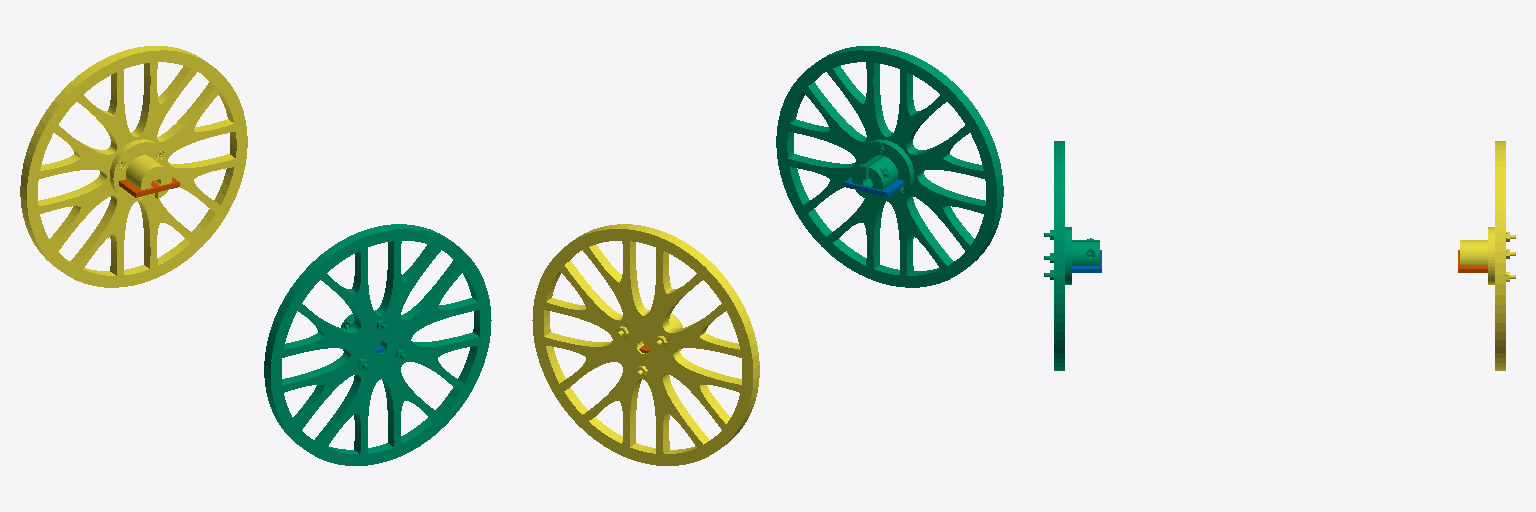
robot.urdf — Puzzlebot Jetson-Lidar Ed.:
<?xml version="1.0"?>
<robot name="Puzzlebot Jetson-Lidar Ed.">


<!-- Dummy link to fiz robot chassis -->
  <link name="base_link">
  </link>
  
    <joint name="chassis_joint" type="fixed">
        <parent link="base_link"/>
        <child link="chassis"/>
        <origin xyz="0.0 0.0 0.05"/>
    </joint>

    <link name="chassis">
        <inertial>
            <origin xyz="0 0 0" rpy="0 0 0"/>
            <mass value="0.01" />
            <inertia ixx="7.58333333333e-06" ixy="0.0" ixz="0.0" iyy="7.58333333333e-06" iyz="0.0" izz="1.25e-05"/>
        </inertial>
        <collision>
            <origin rpy="0 0 0" xyz="0 0 0"/>
            <geometry>
                <mesh filename="package://Minichallenge4/models/MCR2_1000_13_Chassis.stl"/>
            </geometry>
        </collision>
        <visual>
            <origin rpy="1.57079632679 0 1.57079632679" xyz="0 0 0"/>
            <geometry>
                <mesh filename="package://Minichallenge4/models/MCR2_1000_13_Chassis.stl"/>
            </geometry>
        </visual>
    </link>

    <joint name="rw_joint" type="revolute">
        <parent link="chassis"/>
        <child link="rw"/>
        <origin xyz="0.05 -0.087 0.0046"/>
        <axis xyz="0 1 0"/>
        <limit lower="-3.1416" upper="3.1416" effort="100" velocity="3.14"/>
        <!-- Adjust the limit and velocity according to your requirements -->
    </joint>

    <link name="rw">
        <inertial>
            <origin xyz="0.0 0.0 0.0046" rpy="0 0 0"/>
            <mass value="0.01" />
            <inertia ixx="7.58333333333e-06" ixy="0.0" ixz="0.0" iyy="7.58333333333e-06" iyz="0.0" izz="1.25e-05"/>
        </inertial>
        <collision>
            <origin rpy="0 0 0" xyz="0 0 0"/>
            <geometry>
                <mesh filename="package://Minichallenge4//models/MCR2_1000_1_1_Wheel_Coupler_2.stl"/>
            </geometry>
        </collision>
        <visual>
            <origin rpy="-1.5708 0 0" xyz="0.0 -0.011 -0.002"/>
            <geometry>
                <mesh filename="package://Minichallenge4/models/MCR2_1000_1_1_Wheel_Coupler_2.stl"/>
            </geometry>
        </visual>
    </link>

    <joint name="lw_joint" type="revolute">
        <parent link="chassis"/>
        <child link="lw"/>
        <origin xyz="0.05 0.087 0.0046"/>
        <axis xyz="0 1 0"/>
        <limit lower="-3.1416" upper="3.1416" effort="100" velocity="3.14"/>
        <!-- Adjust the limit and velocity according to your requirements -->
    </joint>

    <link name="lw">
        <inertial>
            <origin xyz="0.0 0.0 0.0046" rpy="0 0 0"/>
            <mass value="0.01" />
            <inertia ixx="7.58333333333e-06" ixy="0.0" ixz="0.0" iyy="7.58333333333e-06" iyz="0.0" izz="1.25e-05"/>
        </inertial>
        <collision>
            <origin rpy="0 0 0" xyz="0 0 0"/>
            <geometry>
                <mesh filename="package://Minichallenge4/models/MCR2_1000_1_1_Wheel_Coupler_2.stl"/>
            </geometry>
        </collision>
        <visual>
            <origin rpy="1.5708 0 0" xyz="0.0 0.011 -0.002"/>
            <geometry>
                <mesh filename="package://Minichallenge4/models/MCR2_1000_1_1_Wheel_Coupler_2.stl"/>
            </geometry>
        </visual>
    </link>

    <!-- Supports for wheels -->
    <joint name="rw_support_joint" type="fixed">
        <parent link="rw"/>
        <child link="rw_support"/>
        <origin xyz="0.0 0.0 -0.0046"/>
    </joint>

    <link name="rw_support">
        <inertial>
        <origin xyz="0.0 0.0 0.0" rpy="0 0 0"/>
        <mass value="0.0" />
        <inertia ixx="0.0" ixy="0.0" ixz="0.0" iyy="0.0" iyz="0.0" izz="0.0"/>
        </inertial>
        <collision>
        <origin rpy="0 0 0" xyz="0 0 0"/>
        <geometry>
            <box size="0.02 0.02 0.002"/>
        </geometry>
        </collision>
        <visual>
        <origin rpy="0 0 0" xyz="0 0 0"/>
        <geometry>
            <box size="0.02 0.02 0.002"/>
        </geometry>
        </visual>
    </link>

    <joint name="lw_support_joint" type="fixed">
        <parent link="lw"/>
        <child link="lw_support"/>
        <origin xyz="0.0 0.0 -0.0046"/>
    </joint>

    <link name="lw_support">
        <inertial>
        <origin xyz="0.0 0.0 0.0" rpy="0 0 0"/>
        <mass value="0.0" />
        <inertia ixx="0.0" ixy="0.0" ixz="0.0" iyy="0.0" iyz="0.0" izz="0.0"/>
        </inertial>
        <collision>
        <origin rpy="0 0 0" xyz="0 0 0"/>
        <geometry>
            <box size="0.02 0.02 0.002"/>
        </geometry>
        </collision>
        <visual>
        <origin rpy="0 0 0" xyz="0 0 0"/>
        <geometry>
            <box size="0.02 0.02 0.002"/>
        </geometry>
        </visual>
    </link>



<!-- FINISH THE URDF-->


</robot>

--- What the picture shows (computed from the rendered views, not written in the file) ---
The picture shows the robot from 3 angles, left to right: view 1: azimuth 30°, elevation 25°; view 2: azimuth 150°, elevation 25°; view 3: azimuth 270°, elevation 25°; orthographic projection.
Model Puzzlebot Jetson-Lidar Ed. with 6 links and 5 joints (2 revolute, 3 fixed), rooted at base_link, posed all joints at 0.
Visible links, largest first — view 1: rw, lw; view 2: lw, rw; view 3: rw, lw.
Boxes of the visible links, x1=… form: rw: x1=264, y1=224, x2=491, y2=465; lw: x1=20, y1=46, x2=247, y2=287; lw: x1=532, y1=224, x2=759, y2=465; rw: x1=776, y1=46, x2=1003, y2=287; rw: x1=1044, y1=141, x2=1099, y2=370; lw: x1=1460, y1=141, x2=1515, y2=370.
Bounding box of the posed robot: 0.0999 × 0.204 × 0.1 m (x, y, z).
2 mesh visuals loaded from 2 distinct referenced files (1 binary STL); not drawn: 1 (reference not matched to a file when rendering).